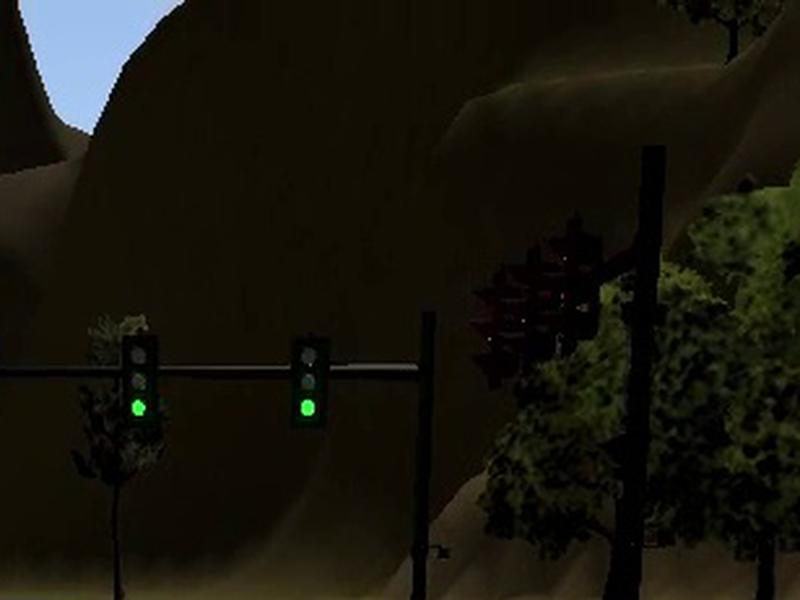Green: (122, 334, 159, 426), (291, 335, 328, 426)
